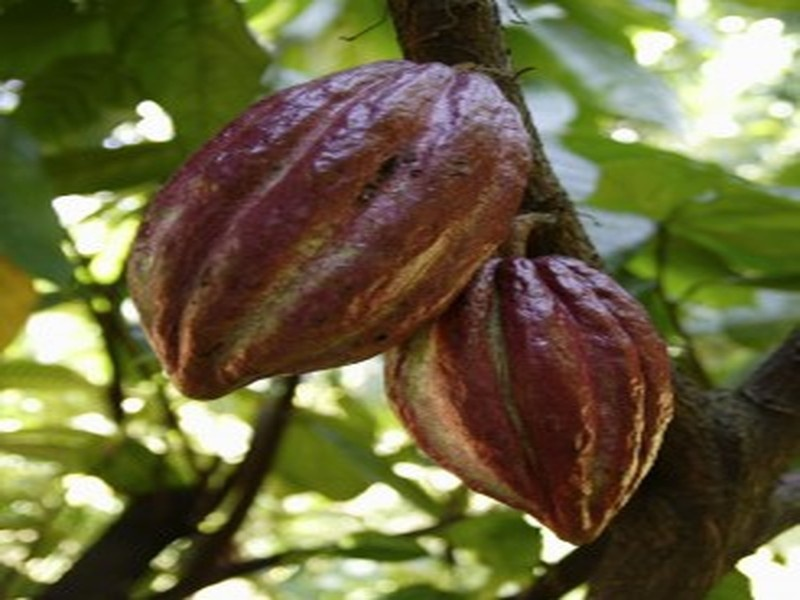Cacaopod: (125, 51, 528, 411), (378, 245, 655, 541)
